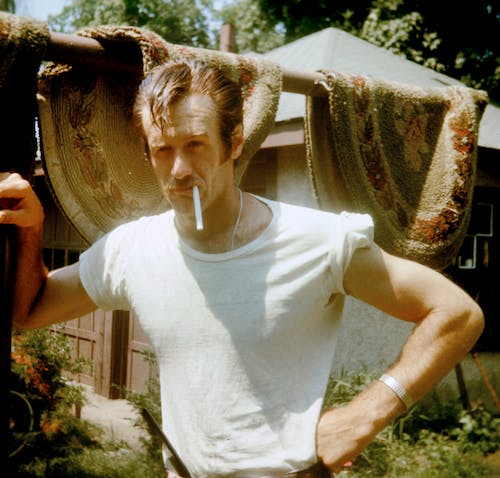cigarette: (189, 185, 205, 233)
